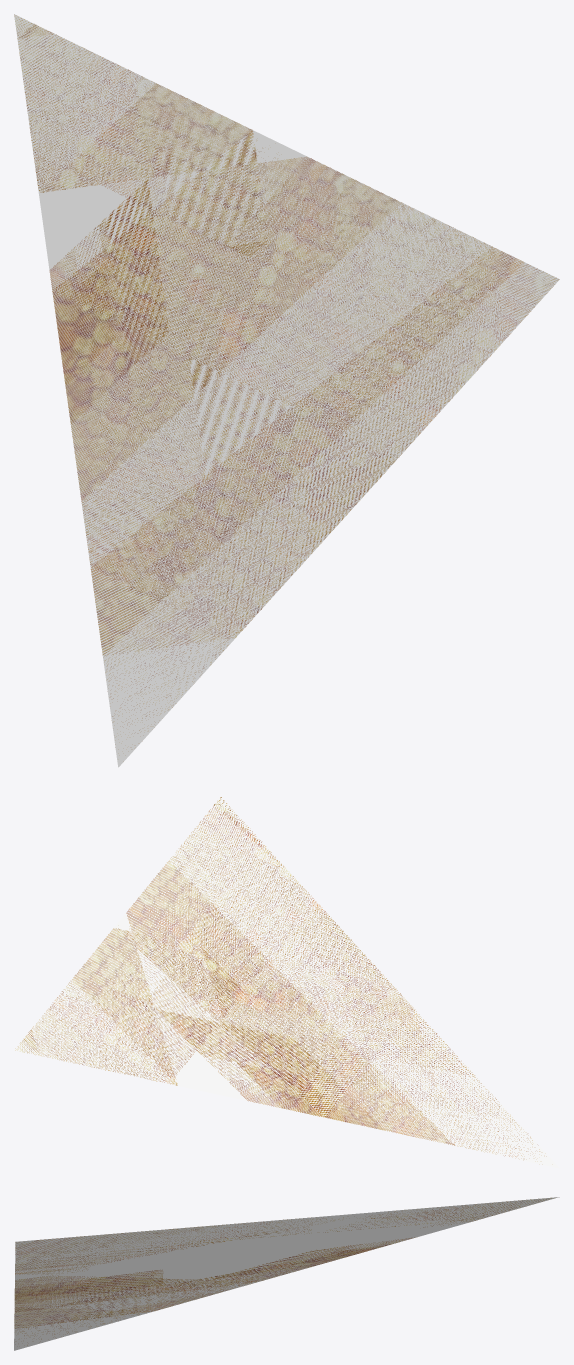
File: 西庸城堡73.dae
3 views of the same model, one above another, from view 1: azimuth 30°, elevation 25°; view 2: azimuth 150°, elevation 25°; view 3: azimuth 270°, elevation 25° (orthographic). The views are drawn at different scales.
Parts seen in each view (by area): view 1: SketchUp; view 2: SketchUp; view 3: SketchUp.
Boxes of the visible parts, x1,y1,x2,y2 form: SketchUp: (14,14,559,767); SketchUp: (14,796,559,1168); SketchUp: (14,1197,559,1350).
Size of the model in its own units: 173 by 277 by 142.
